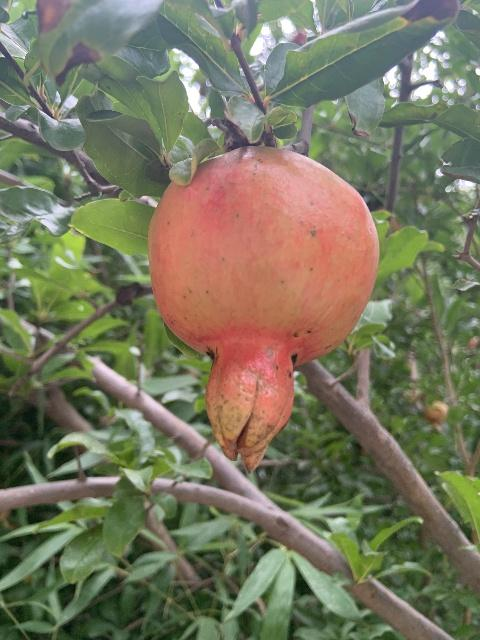ripe: (148, 147, 379, 475)
